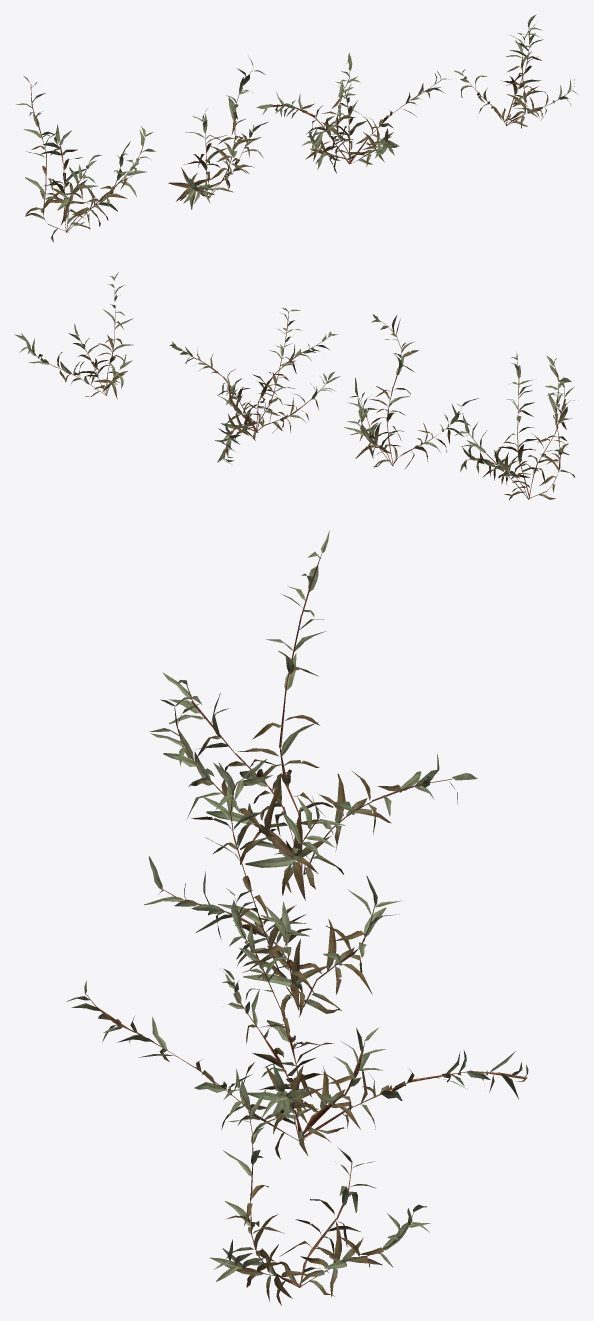
The model's file is shrub_02_lod.glb.
The picture shows the model from 3 angles, top to bottom: view 1: azimuth 30°, elevation 25°; view 2: azimuth 150°, elevation 25°; view 3: azimuth 270°, elevation 25°; orthographic projection. The views are drawn at different scales.
Parts seen in each view (by area): view 1: shrub_02_a, shrub_02_c, shrub_02_b, shrub_02_d; view 2: shrub_02_a, shrub_02_c, shrub_02_b, shrub_02_d; view 3: shrub_02_a, shrub_02_c, shrub_02_b, shrub_02_d.
Boxes of the visible parts, x1,y1,x2,y2 form: shrub_02_a: (16,76,155,242); shrub_02_c: (256,52,451,173); shrub_02_b: (168,56,268,209); shrub_02_d: (454,14,578,128); shrub_02_a: (454,352,575,500); shrub_02_c: (170,307,340,464); shrub_02_b: (344,314,478,469); shrub_02_d: (14,272,133,399); shrub_02_a: (149,530,477,900); shrub_02_c: (66,888,528,1159); shrub_02_b: (144,759,401,1018); shrub_02_d: (210,1068,430,1305).
Size of the model in its own units: 6.03 by 1.7 by 2.28.
Materials: 1 (1 with a texture image).
